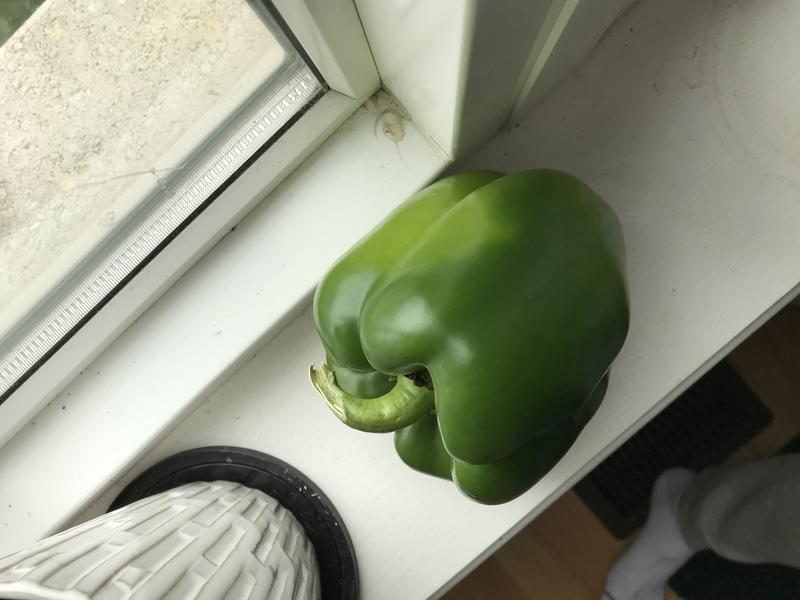green_pepper: (303, 149, 639, 520)
